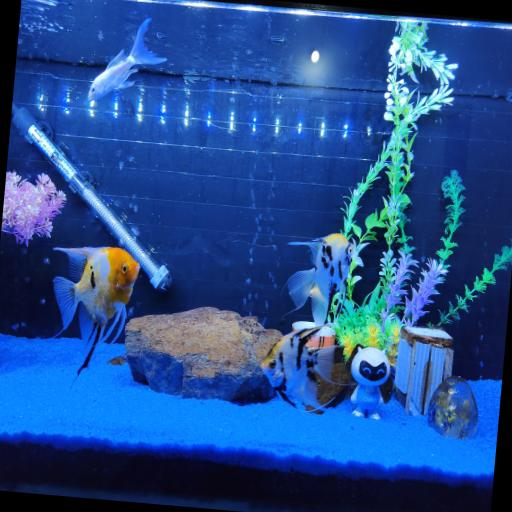Fish: (53, 247, 139, 374), (87, 19, 165, 100), (286, 234, 355, 325), (260, 327, 336, 408)
